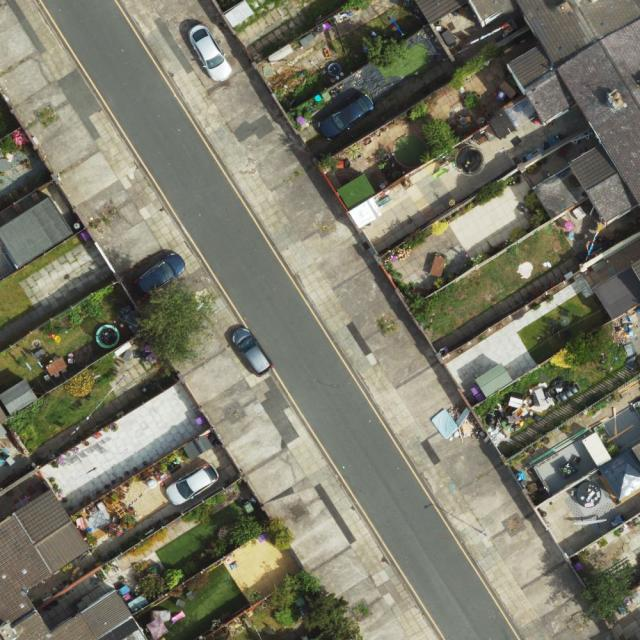roof: (414, 1, 640, 223), (0, 492, 147, 640)
